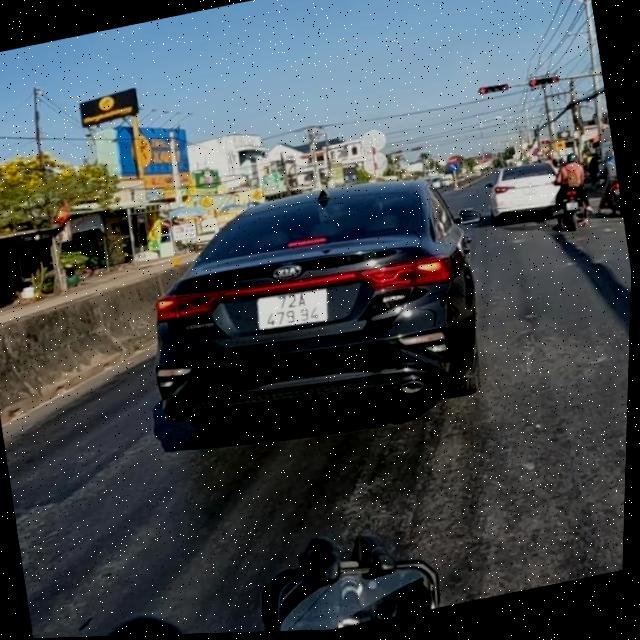car: (122, 151, 504, 470), (480, 144, 570, 229)
motorcycle: (546, 180, 592, 235)
plate: (243, 274, 336, 341)
